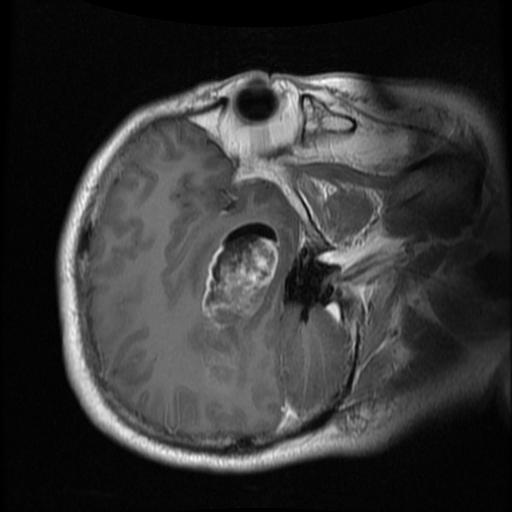glioma: (188, 218, 279, 380)
